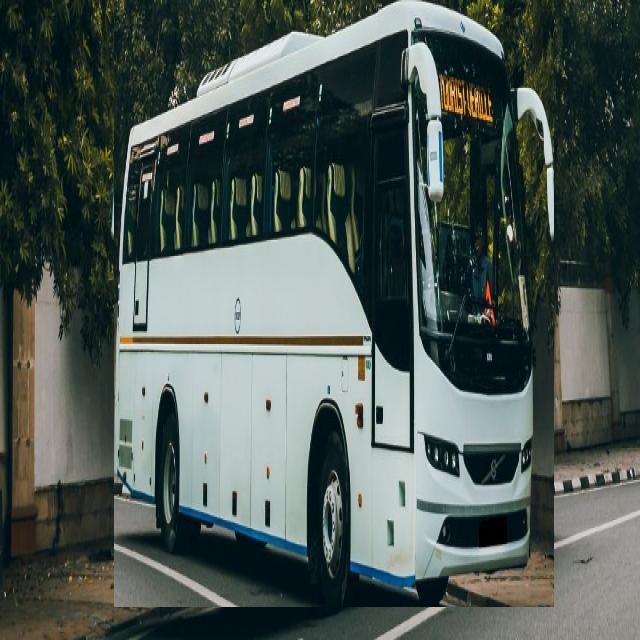bus: (114, 0, 554, 607)
